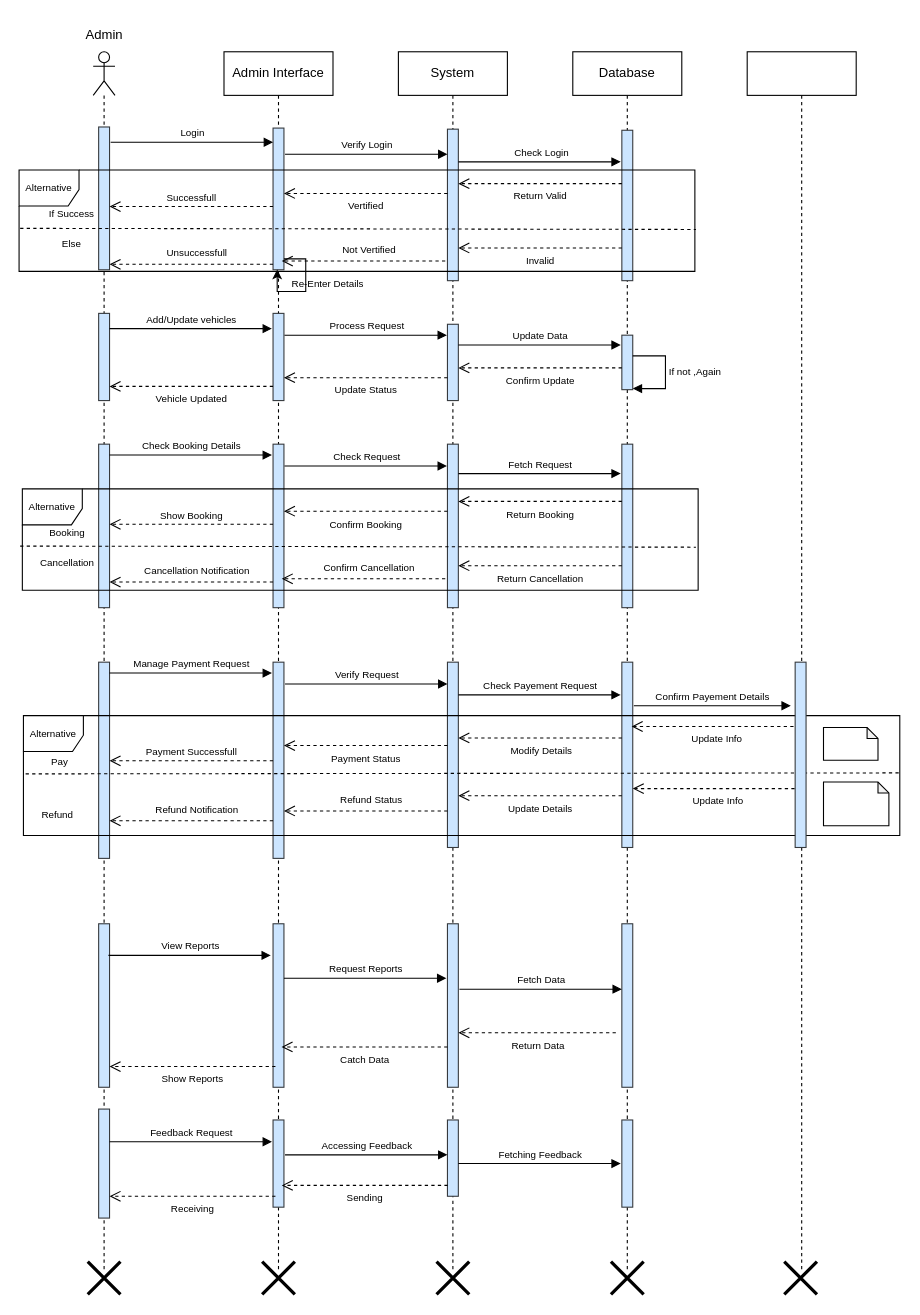
The diagram is 920 pixels wide and 1315 high, and some of its shapes have lost their labels. Here are the shapes that lost their labels. From the top down, the centre of each, then its label:
pixel 801 662: Payment Gateway
pixel 850 743: Amount Deposited
pixel 855 803: Refund Amount Deducted
